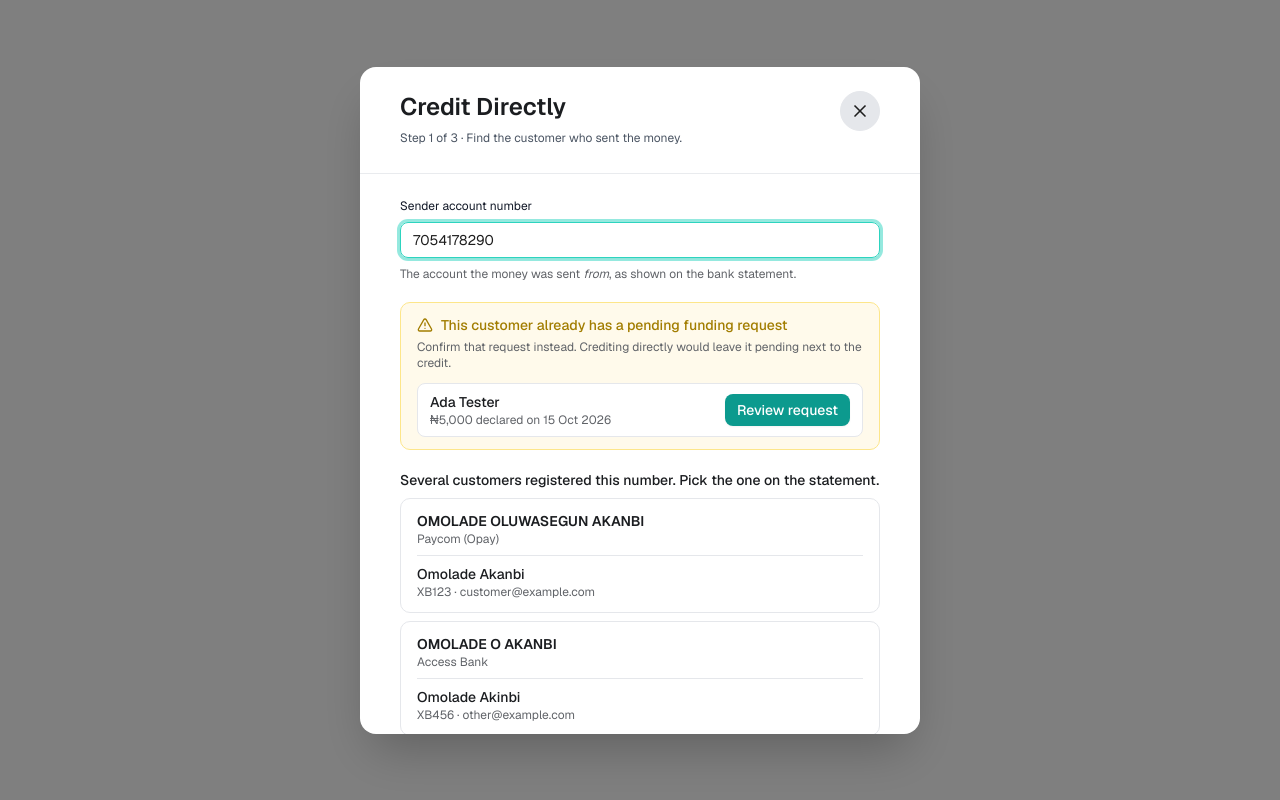
it: CreditDirectlyModal: finding the customer › only blocks the customer whose request it is when several share the number
The image size is (1280, 800).
Expected: the text "This customer already has a pending funding request" is shown, [417,316,788,334]
// Choosing the customer with no pending request clears it.
Click the radio button labelled "OMOLADE OLUWASEGUN AKANBI". click: x=640, y=555
box: [400,498,880,612]
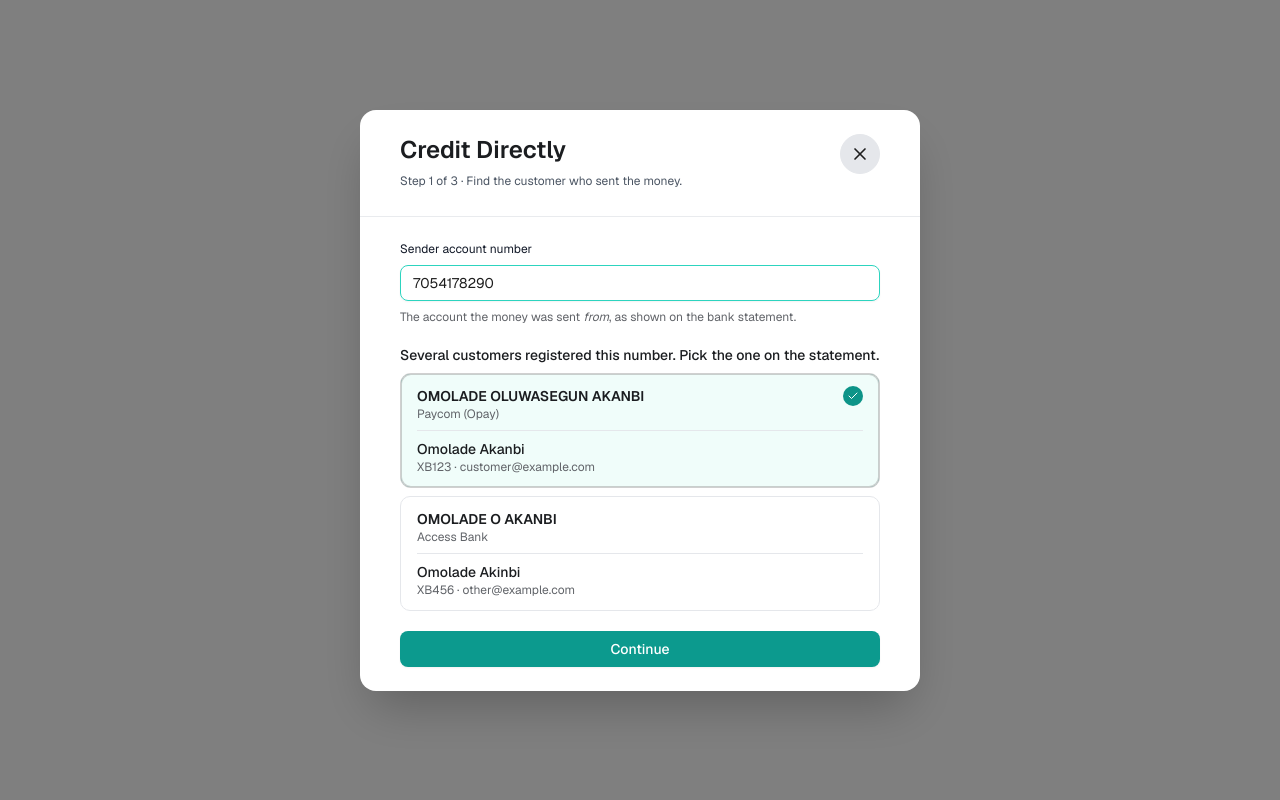
Expected: the button "Continue" is enabled, [400,630,880,666]
Expected: the text "already has a pending funding request" is gone
// Choosing the customer who has one blocks again.
Click the radio button labelled "OMOLADE O AKANBI". click: x=640, y=553
box: [400,496,880,610]
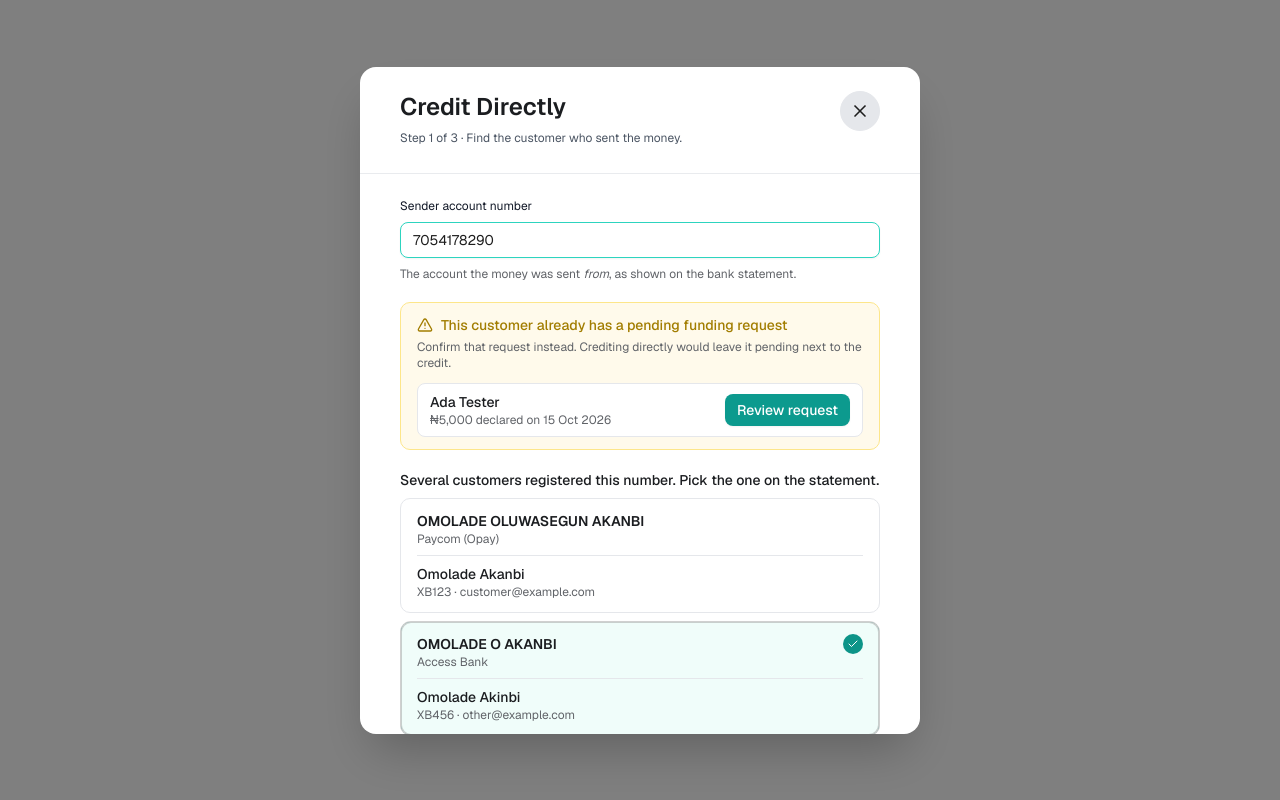
Expected: the text "This customer already has a pending funding request" is shown, [417,316,788,334]
